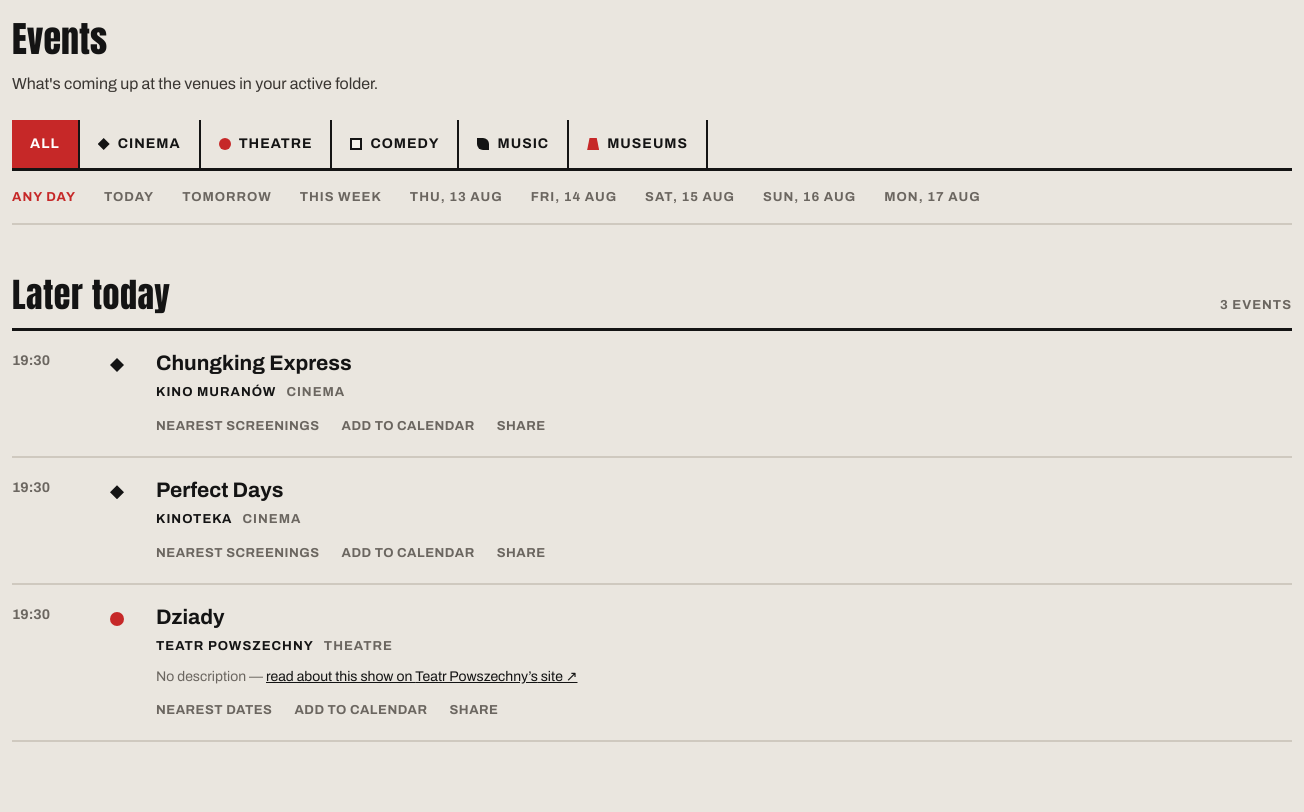
MyEventsSection — venues per category (GOI-135) › lists the category’s own venues, and picking one narrows the list
The width and height of the screenshot is (1304, 812).
What coordinates should you click on to do the following:
click the button "Cinema"
I would click on:
 (140, 144)
Its box is [80,120,201,168].
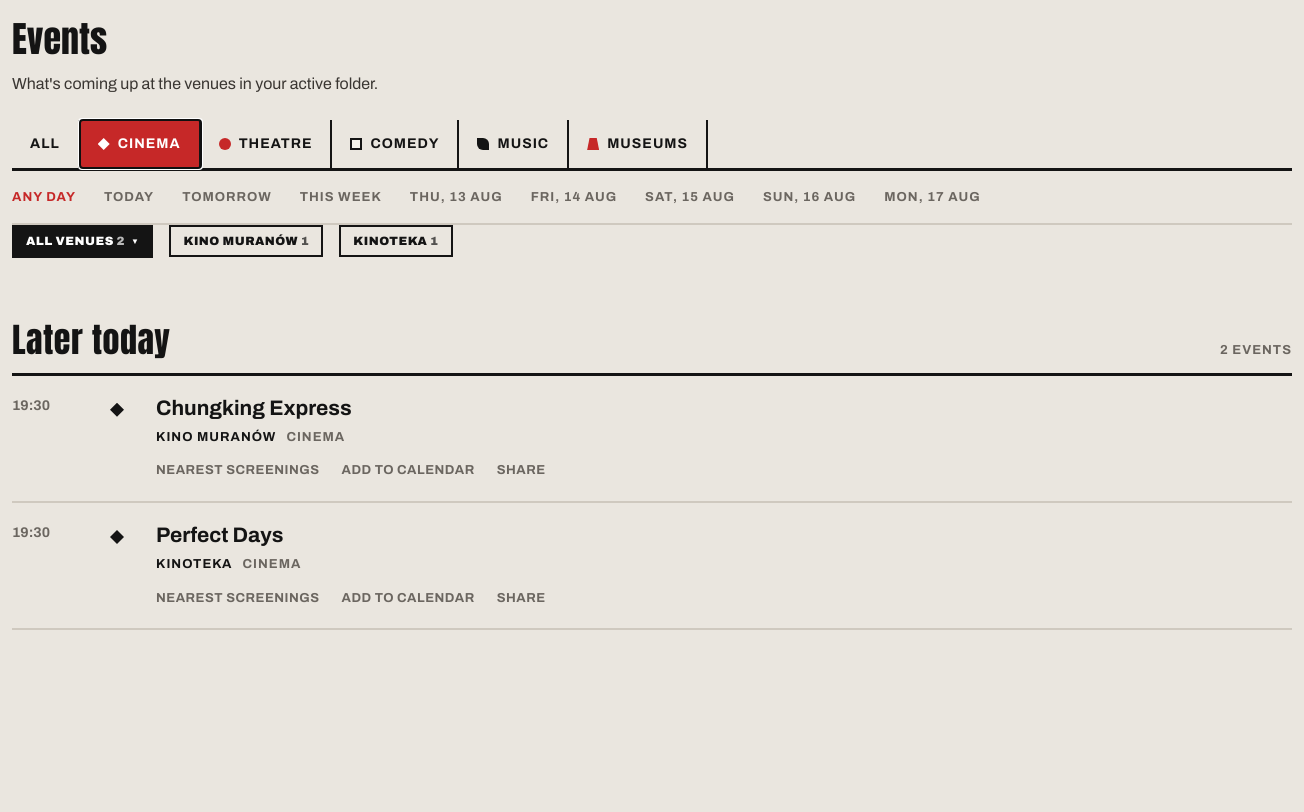
Result: the button with aria-label "Kino Muranów, 1 event" is shown at [169,225,323,257]
Result: the button with aria-label "Kinoteka, 1 event" is shown
Result: the text "Powszechny" is gone
What coordinates should you click on to do the following:
click the button with aria-label "Kinoteka, 1 event"
I would click on:
 (396, 241)
Its box is [339,225,453,257].
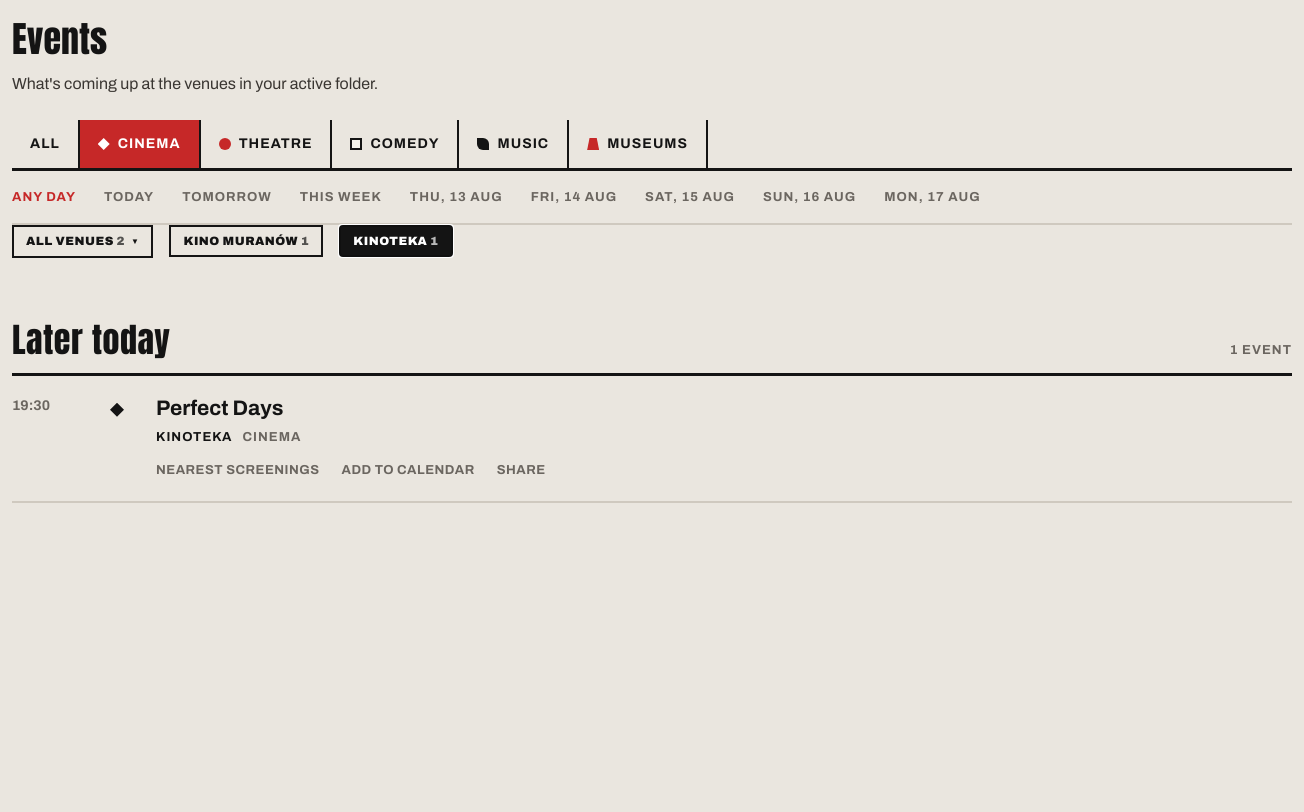
Expected: the heading "Perfect Days" is shown, [156,396,284,420]
Result: the link "Chungking Express" is gone
